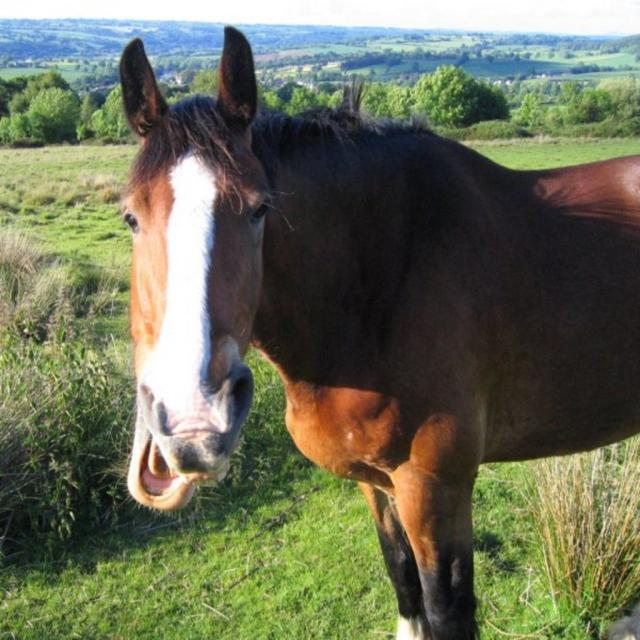Horse: (109, 21, 640, 638)
